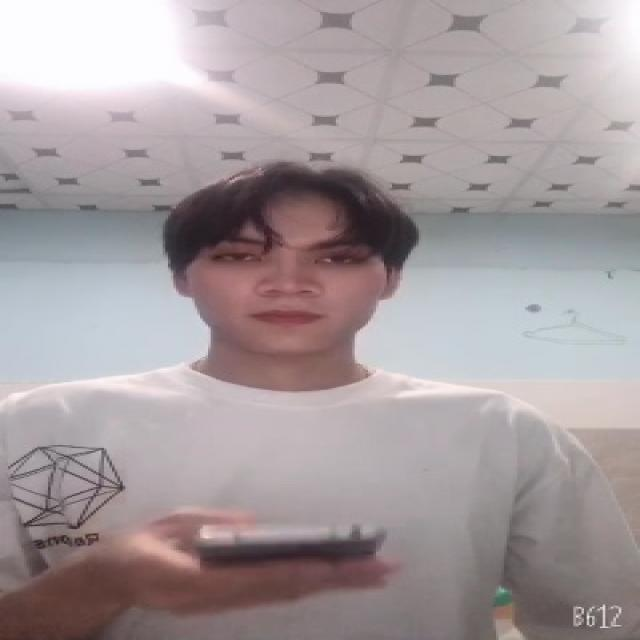Phone: (196, 518, 392, 568)
